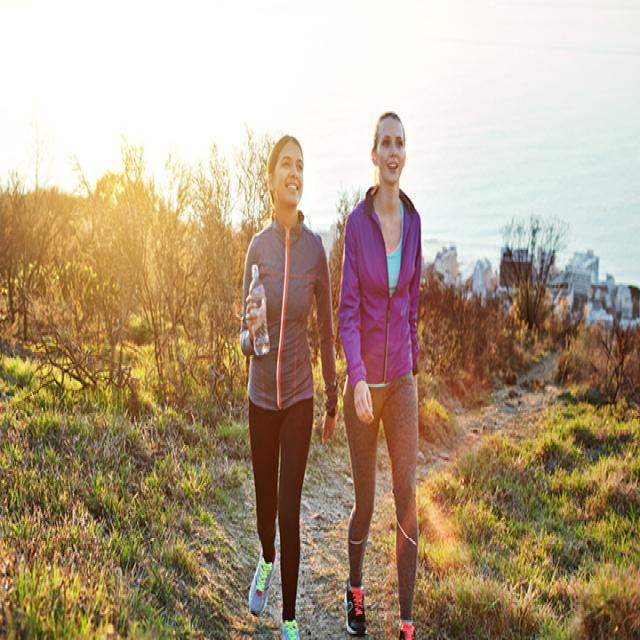Person: (239, 135, 338, 640), (338, 109, 421, 640)
